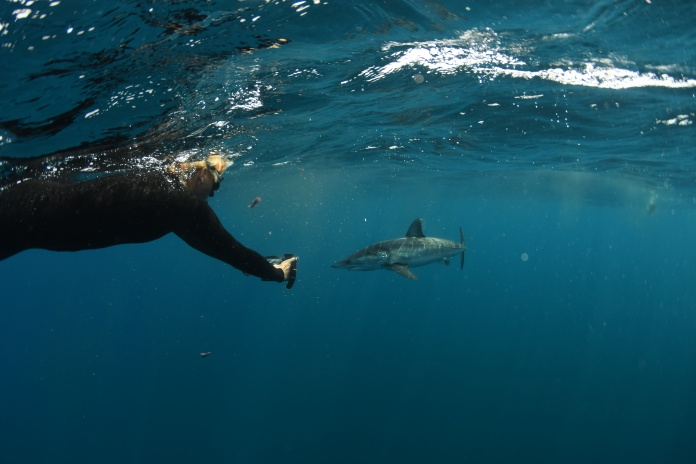Mako: (325, 212, 474, 285)
